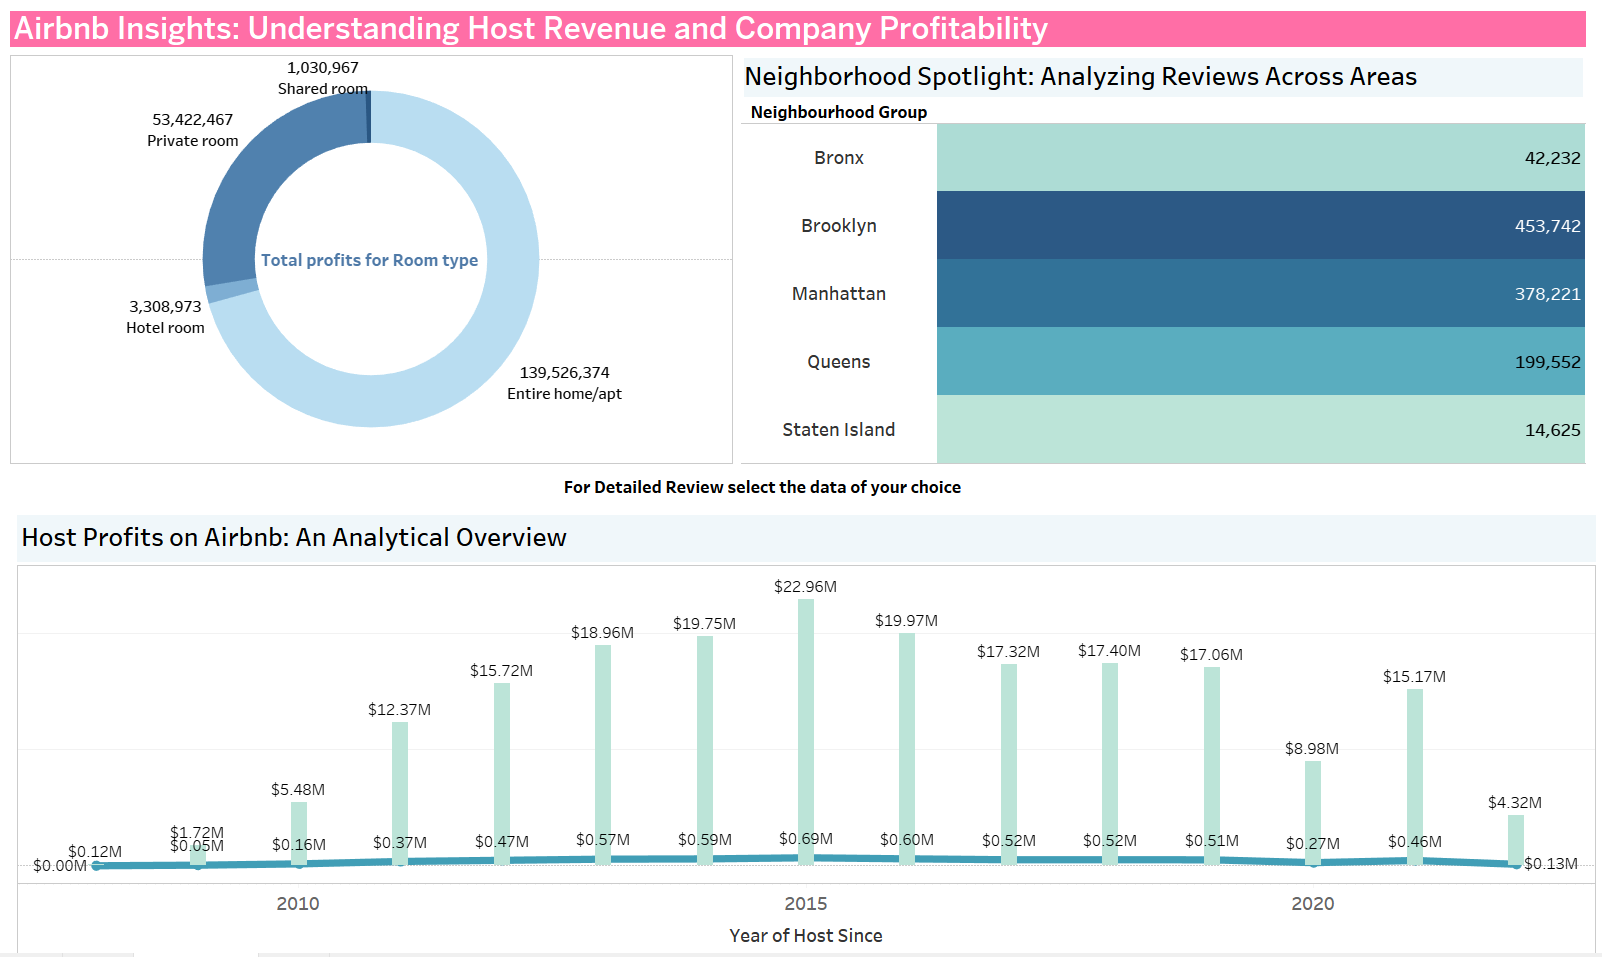

Layout of this report page (visuals, bound fields, positions):
{"tool":"tableau","page":{"name":"Dashboard 1","canvas":[1600,1200],"ordinal":0},"visuals":[{"type":"title","box":[8,8,1584,44]},{"type":"worksheet","title":"Sheet 2","mark":"Pie","rows":["Calculation_1827898564477247493","Calculation_1827898564477280263"],"box":[8,52,731,417]},{"type":"worksheet","title":"Sheet 4","mark":"Square","rows":["Neighbourhood Group"],"box":[739,52,853,417]},{"type":"text","box":[41,467,1447,41]},{"type":"worksheet","title":"Sheet 3","mark":"Line","rows":["Airbnb Profts","Host Gross Profits"],"cols":["Host Since"],"box":[19,516,1579,440]},{"type":"legend","title":"Sheet 3","param":"[federated.0tnox7z1v3srnm168cexz0y2nhvi].[:Measure Names]","box":[24,968,213,67]},{"type":"text","box":[14,1037,1570,159]}]}

Visuals, with their boxes in screenshot pixels (x1, y1, x2, y2):
title: {"x1": 382, "y1": 77, "x2": 1581, "y2": 110}
"Sheet 2" worksheet (Pie marks): {"x1": 382, "y1": 110, "x2": 935, "y2": 426}
"Sheet 4" worksheet (Square marks): {"x1": 935, "y1": 110, "x2": 1581, "y2": 426}
text: {"x1": 407, "y1": 425, "x2": 1502, "y2": 456}
"Sheet 3" worksheet (Line marks): {"x1": 390, "y1": 462, "x2": 1586, "y2": 795}
"Sheet 3" legend: {"x1": 394, "y1": 804, "x2": 555, "y2": 855}
text: {"x1": 386, "y1": 856, "x2": 1575, "y2": 956}
